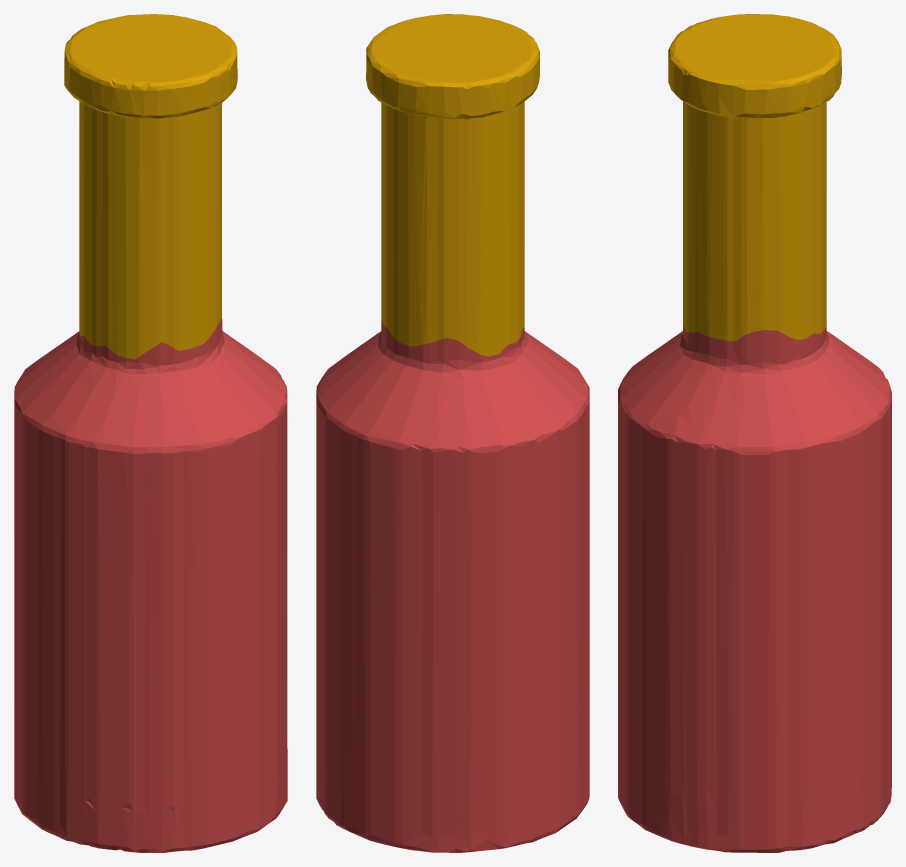
The model's file is fractured_0_2pcs.glb.
3 renders of one model, left to right at view 1: azimuth 30°, elevation 25°; view 2: azimuth 150°, elevation 25°; view 3: azimuth 270°, elevation 25°, orthographic.
Visible parts, largest first — view 1: piece_1.obj, piece_0.obj; view 2: piece_1.obj, piece_0.obj; view 3: piece_1.obj, piece_0.obj.
Part boxes in pixels (x1,y1,x2,y2): piece_1.obj: (14,319,287,852); piece_0.obj: (64,14,237,359); piece_1.obj: (316,319,589,852); piece_0.obj: (366,14,539,356); piece_1.obj: (618,322,891,852); piece_0.obj: (668,14,841,341).
Size of the model in its own units: 0.3308 by 1 by 0.3308.
